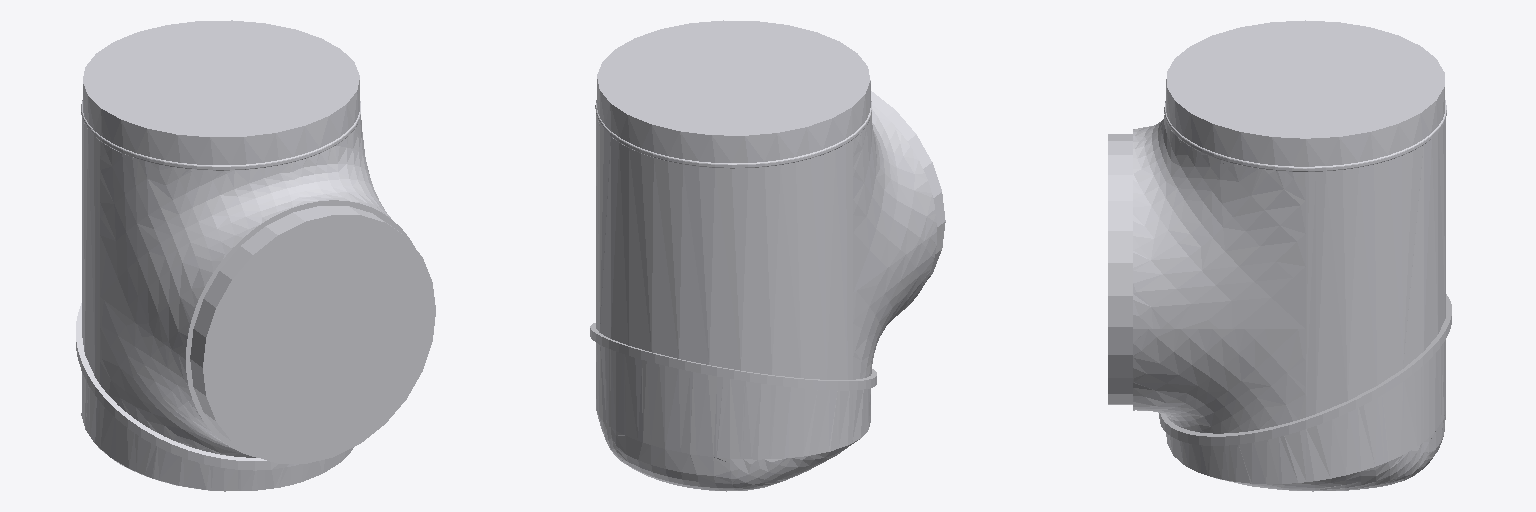
URDF robot description (gcr10_1300):
<?xml version="1.0" encoding="utf-8"?>
<!-- This URDF was automatically created by SolidWorks to URDF Exporter! Originally created by [author] ([email redacted]) 
     Commit Version: 1.6.0-4-g7f85cfe  Build Version: 1.6.7995.38578
     For more information, please see http://wiki.ros.org/sw_urdf_exporter -->
<robot
  name="gcr10_1300">
  <link
    name="base_link">
    <inertial>
      <origin
        xyz="5.4538E-05 0.0034249 0.036769"
        rpy="0 0 0" />
      <mass
        value="2" />
      <inertia
        ixx="0.010998"
        ixy="2.636E-05"
        ixz="3.0192E-06"
        iyy="0.012303"
        iyz="0.0003209"
        izz="0.01834" />
    </inertial>
    <visual>
      <origin
        xyz="0 0 0"
        rpy="0 0 0" />
      <geometry>
        <mesh
          filename="package://duco_support/meshes/GCR10_1300/base_link.stl" />
      </geometry>
      <material
        name="">
        <color
          rgba="0.73333 0.78039 0.83922 1" />
      </material>
    </visual>
    <collision>
      <origin
        xyz="0 0 0"
        rpy="0 0 0" />
      <geometry>
        <mesh
          filename="package://duco_support/meshes/GCR10_1300/base_link.stl" />
      </geometry>
    </collision>
  </link>
  <link
    name="link_1">
    <inertial>
      <origin
        xyz="-1.8439E-05 0.044555 0.031143"
        rpy="0 0 0" />
      <mass
        value="9.174" />
      <inertia
        ixx="0.00077995"
        ixy="-2.4048E-07"
        ixz="2.088E-08"
        iyy="0.0011568"
        iyz="-9.8677E-05"
        izz="0.001099" />
    </inertial>
    <visual>
      <origin
        xyz="0 0 0"
        rpy="0 0 0" />
      <geometry>
        <mesh
          filename="package://duco_support/meshes/GCR10_1300/link_1.stl" />
      </geometry>
      <material
        name="">
        <color
          rgba="0.73333 0.78039 0.83922 1" />
      </material>
    </visual>
    <collision>
      <origin
        xyz="0 0 0"
        rpy="0 0 0" />
      <geometry>
        <mesh
          filename="package://duco_support/meshes/GCR10_1300/link_1.stl" />
      </geometry>
    </collision>
  </link>
  <joint
    name="arm_1_joint_1"
    type="revolute">
    <origin
      xyz="0 0 0.165"
      rpy="0 0 0" />
    <parent
      link="base_link" />
    <child
      link="link_1" />
    <axis
      xyz="0 0 1" />
    <limit
      lower="-3.1415926"
      upper="3.1415926"
      effort="450"
      velocity="3.1415926535" />
  </joint>
  <link
    name="link_2">
    <inertial>
      <origin
        xyz="0.37123 1.2834E-05 0.075398"
        rpy="0 0 0" />
      <mass
        value="16.09" />
      <inertia
        ixx="0.00082458"
        ixy="2.8918E-07"
        ixz="-2.889E-05"
        iyy="0.0008143"
        iyz="2.1221E-08"
        izz="0.0013433" />
    </inertial>
    <visual>
      <origin
        xyz="0 0 0"
        rpy="0 0 0" />
      <geometry>
        <mesh
          filename="package://duco_support/meshes/GCR10_1300/link_2.stl" />
      </geometry>
      <material
        name="">
        <color
          rgba="0.79216 0.81961 0.93333 1" />
      </material>
    </visual>
    <collision>
      <origin
        xyz="0 0 0"
        rpy="0 0 0" />
      <geometry>
        <mesh
          filename="package://duco_support/meshes/GCR10_1300/link_2.stl" />
      </geometry>
    </collision>
  </link>
  <joint
    name="arm_1_joint_2"
    type="revolute">
    <origin
      xyz="0 0.164 0"
      rpy="1.5708 -1.5708 3.1416" />
    <parent
      link="link_1" />
    <child
      link="link_2" />
    <axis
      xyz="0 0 1" />
    <limit
      lower="-3.1415926"
      upper="3.1415926"
      effort="450"
      velocity="3.1415926535" />
  </joint>
  <link
    name="link_3">
    <inertial>
      <origin
        xyz="0.56866 -3.9836E-06 -0.10666"
        rpy="0 0 0" />
      <mass
        value="4.765" />
      <inertia
        ixx="0.00023909"
        ixy="1.4987E-08"
        ixz="-1.8702E-05"
        iyy="0.00023639"
        iyz="-5.1641E-09"
        izz="0.00042025" />
    </inertial>
    <visual>
      <origin
        xyz="0 0 0"
        rpy="0 0 0" />
      <geometry>
        <mesh
          filename="package://duco_support/meshes/GCR10_1300/link_3.stl" />
      </geometry>
      <material
        name="">
        <color
          rgba="0.86667 0.86667 0.8902 1" />
      </material>
    </visual>
    <collision>
      <origin
        xyz="0 0 0"
        rpy="0 0 0" />
      <geometry>
        <mesh
          filename="package://duco_support/meshes/GCR10_1300/link_3.stl" />
      </geometry>
    </collision>
  </link>
  <joint
    name="arm_1_joint_3"
    type="revolute">
    <origin
      xyz="0.608 0 0"
      rpy="0 0 0" />
    <parent
      link="link_2" />
    <child
      link="link_3" />
    <axis
      xyz="0 0 1" />
    <limit
      lower="-3.1415926"
      upper="3.1415926"
      effort="205"
      velocity="3.926990817" />
  </joint>
  <link
    name="link_4">
    <inertial>
      <origin
        xyz="4.248E-06 -0.019201 0.0028397"
        rpy="0 0 0" />
      <mass
        value="2.485" />
      <inertia
        ixx="0.00022756"
        ixy="-5.1654E-09"
        ixz="-1.4983E-08"
        iyy="0.00040418"
        iyz="1.8702E-05"
        izz="0.00023026" />
    </inertial>
    <visual>
      <origin
        xyz="0 0 0"
        rpy="0 0 0" />
      <geometry>
        <mesh
          filename="package://duco_support/meshes/GCR10_1300/link_4.stl" />
      </geometry>
      <material
        name="">
        <color
          rgba="0.86667 0.86667 0.8902 1" />
      </material>
    </visual>
    <collision>
      <origin
        xyz="0 0 0"
        rpy="0 0 0" />
      <geometry>
        <mesh
          filename="package://duco_support/meshes/GCR10_1300/link_4.stl" />
      </geometry>
    </collision>
  </link>
  <joint
    name="arm_1_joint_4"
    type="revolute">
    <origin
      xyz="0.566 0 0"
      rpy="0 0 1.5708" />
    <parent
      link="link_3" />
    <child
      link="link_4" />
    <axis
      xyz="0 0 1" />
    <limit
      lower="-3.1415926"
      upper="3.1415926"
      effort="75"
      velocity="3.926990817" />
  </joint>
  <link
    name="link_5">
    <inertial>
      <origin
        xyz="-4.2469E-06 0.019201 0.0028397"
        rpy="0 0 0" />
      <mass
        value="2.485" />
      <inertia
        ixx="0.00022756"
        ixy="-5.1576E-09"
        ixz="1.4973E-08"
        iyy="0.00040418"
        iyz="-1.8702E-05"
        izz="0.00023026" />
    </inertial>
    <visual>
      <origin
        xyz="0 0 0"
        rpy="0 0 0" />
      <geometry>
        <mesh
          filename="package://duco_support/meshes/GCR10_1300/link_5.stl" />
      </geometry>
      <material
        name="">
        <color
          rgba="0.86667 0.86667 0.8902 1" />
      </material>
    </visual>
    <collision>
      <origin
        xyz="0 0 0"
        rpy="0 0 0" />
      <geometry>
        <mesh
          filename="package://duco_support/meshes/GCR10_1300/link_5.stl" />
      </geometry>
    </collision>
  </link>
  <joint
    name="arm_1_joint_5"
    type="revolute">
    <origin
      xyz="0 -0.126 0"
      rpy="1.5708 0 0" />
    <parent
      link="link_4" />
    <child
      link="link_5" />
    <axis
      xyz="0 0 1" />
    <limit
      lower="-3.1415926"
      upper="3.1415926"
      effort="75"
      velocity="3.926990817" />
  </joint>
  <link
    name="link_6">
    <inertial>
      <origin
        xyz="1.1309E-10 -6.6613E-16 -0.024173"
        rpy="0 0 0" />
      <mass
        value="0.451" />
      <inertia
        ixx="0.00044067"
        ixy="1.9605E-20"
        ixz="-3.1582E-19"
        iyy="0.00044067"
        iyz="-6.1088E-20"
        izz="0.00077308" />
    </inertial>
    <visual>
      <origin
        xyz="0 0 0"
        rpy="0 0 0" />
      <geometry>
        <mesh
          filename="package://duco_support/meshes/GCR10_1300/link_6.stl" />
      </geometry>
      <material
        name="">
        <color
          rgba="0.86667 0.86667 0.8902 1" />
      </material>
    </visual>
    <collision>
      <origin
        xyz="0 0 0"
        rpy="0 0 0" />
      <geometry>
        <mesh
          filename="package://duco_support/meshes/GCR10_1300/link_6.stl" />
      </geometry>
    </collision>
  </link>
  <joint
    name="arm_1_joint_6"
    type="revolute">
    <origin
      xyz="0 0.113 0"
      rpy="-1.5708 0 0" />
    <parent
      link="link_5" />
    <child
      link="link_6" />
    <axis
      xyz="0 0 1" />
    <limit
      lower="-3.1415926"
      upper="3.1415926"
      effort="75"
      velocity="3.926990817" />
  </joint>
</robot>

--- Render facts (derived) ---
Views: 3 orthographic renders of the robot side by side, from view 1: azimuth 30°, elevation 25°; view 2: azimuth 150°, elevation 25°; view 3: azimuth 270°, elevation 25°.
Model gcr10_1300 with 7 links and 6 joints (6 revolute), rooted at base_link, posed every joint at zero.
Visible links, largest first — view 1: link_4; view 2: link_4; view 3: link_4.
Boxes of the visible links, box(x1,y1,x2,y2) form: link_4: box(76, 20, 435, 491); link_4: box(590, 20, 945, 491); link_4: box(1108, 20, 1451, 491).
Bounding box of the posed robot: 0.098 × 0.1149 × 0.1415 m (x, y, z).
Meshes: 7 distinct files referenced, 1 mesh visuals loaded (1 binary STL); not drawn: 6 (reference not matched to a file when rendering).